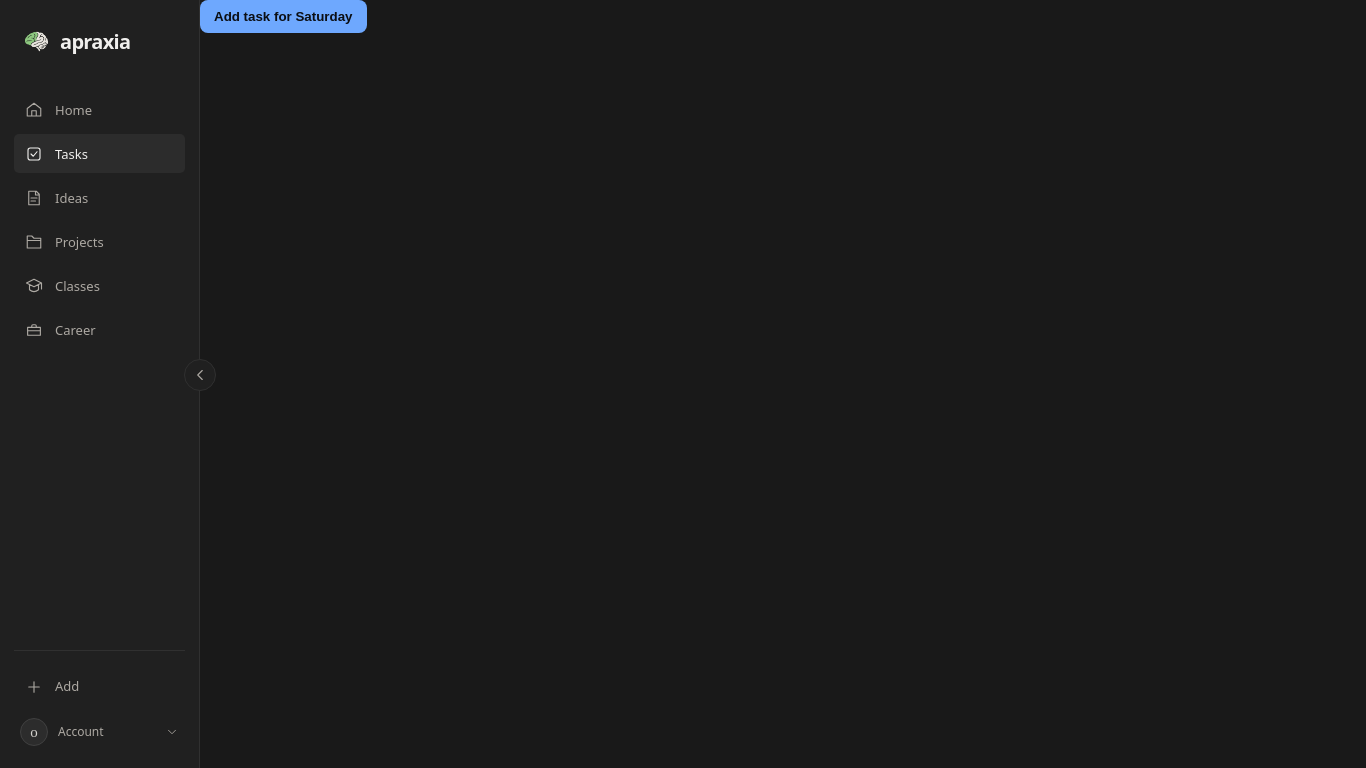
Test: GlobalAddTodoController › does not offer a duplicate retry if saving succeeds but local reconciliation throws
Step 1. Click the button with aria-label "+ add" → x=100, y=686, box [14,667,185,706]
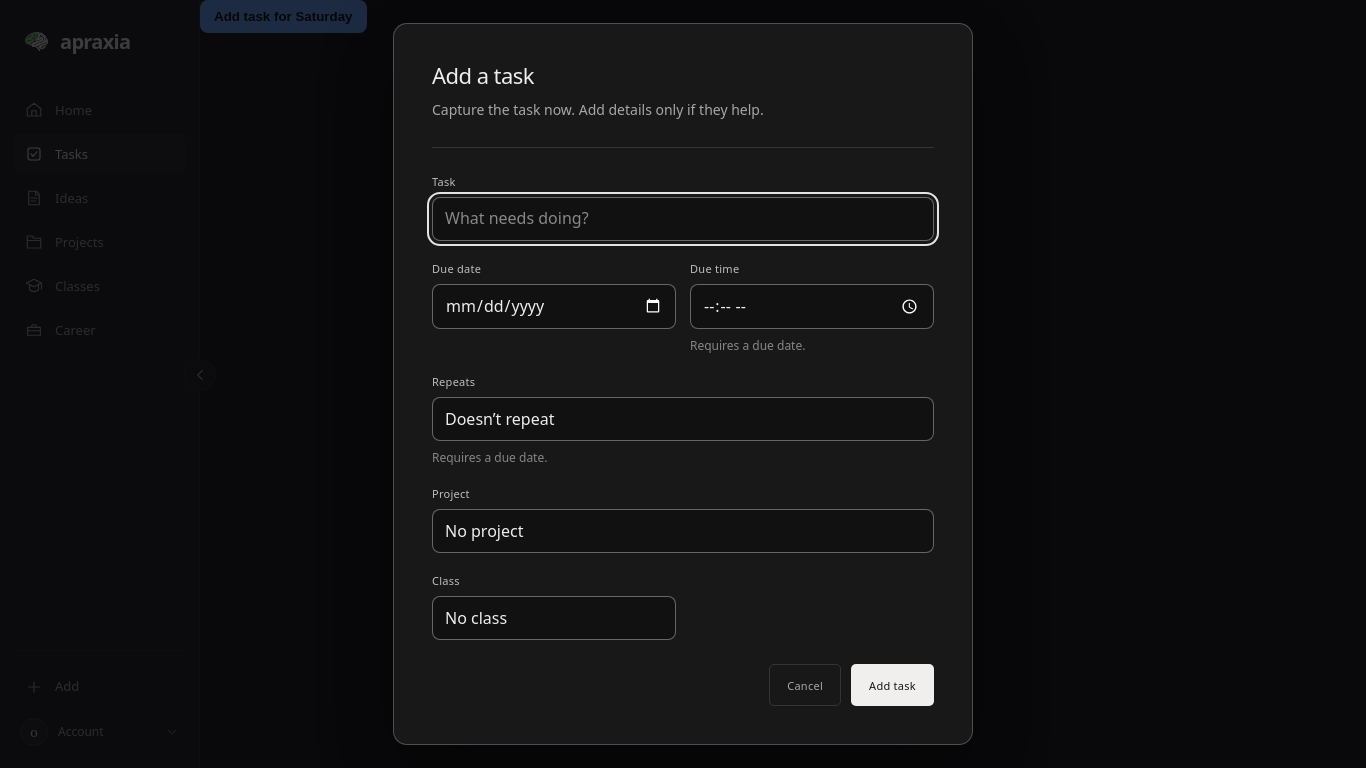
Step 2. Type "Saved once" into the field labelled "Task" → x=683, y=219, box [432,197,934,241]
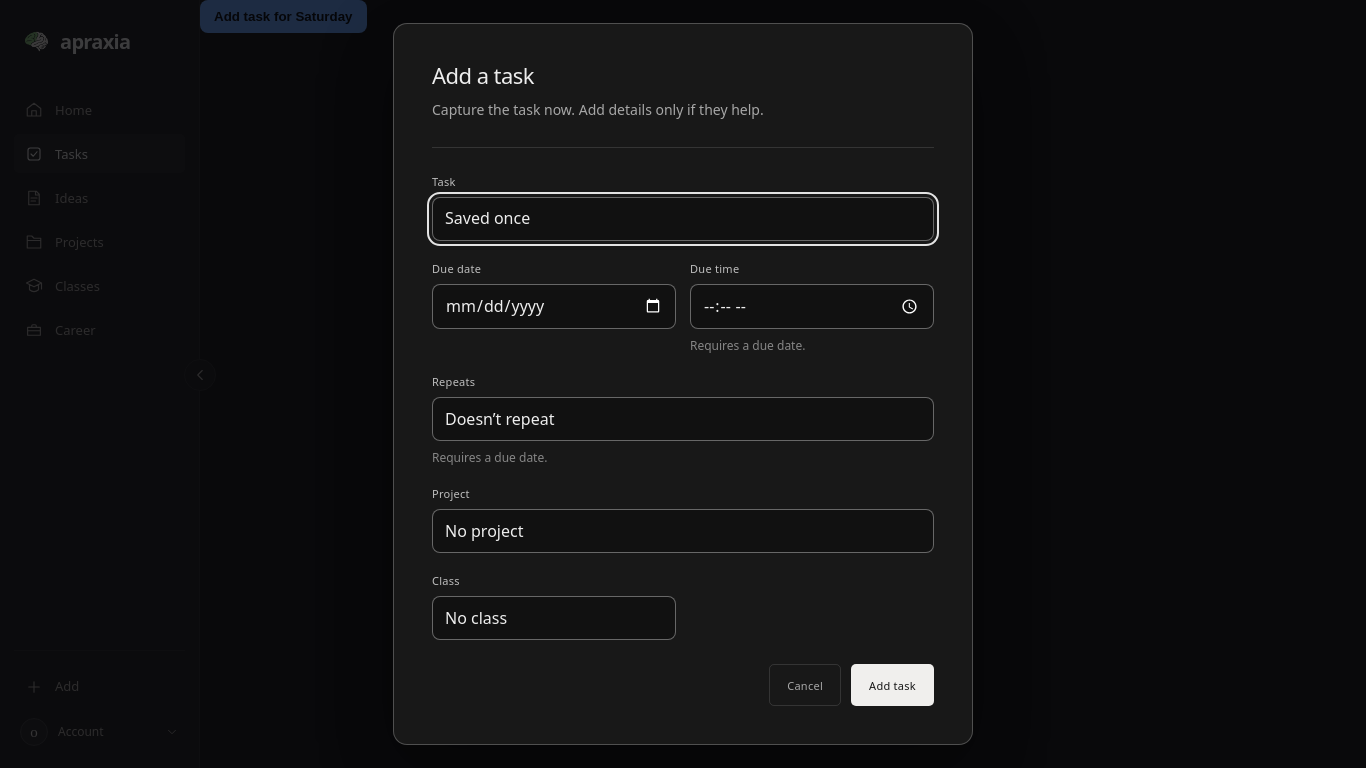
Step 3. Click the button "Add task" → x=893, y=685, box [851,664,934,706]
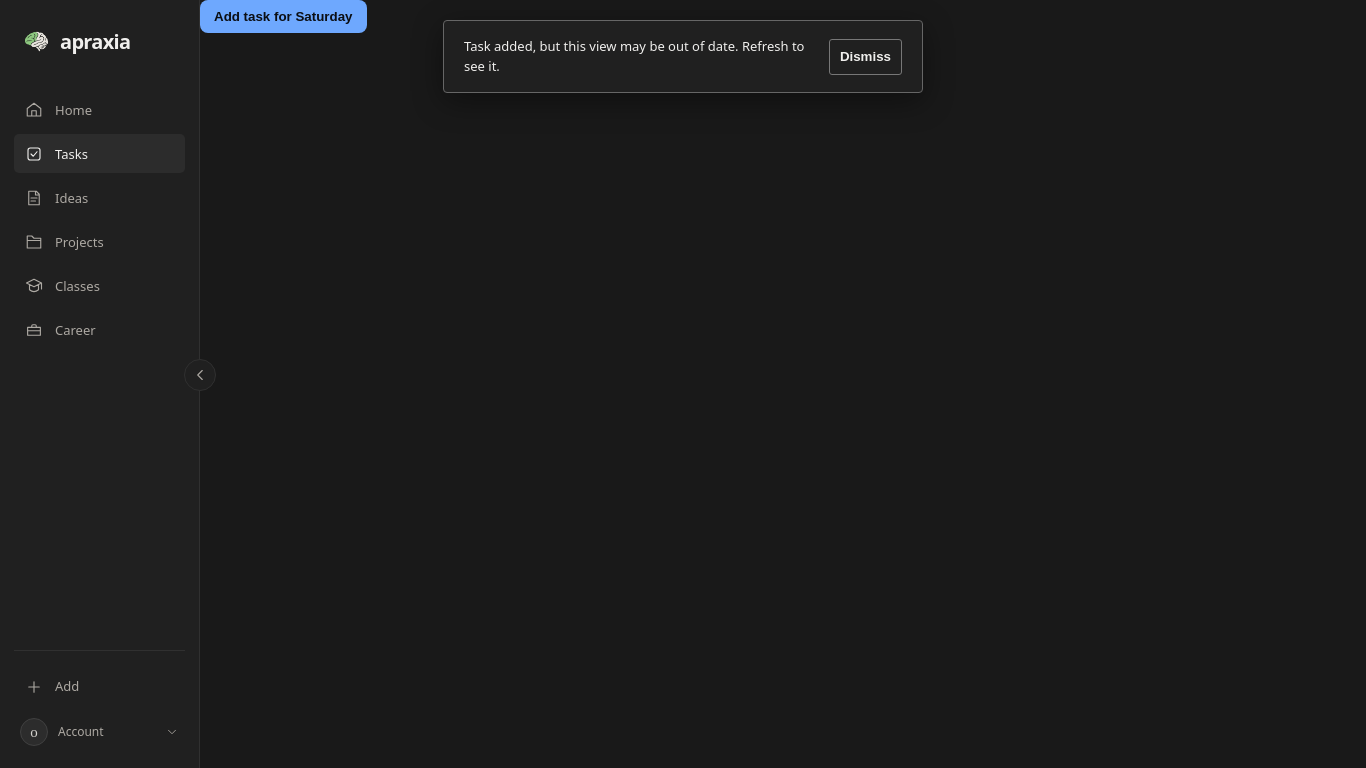
Expected: the dialog is gone
Expected: the text "Task added, but this view may be out of date. Refresh to see it." is shown, [464,37,809,76]
